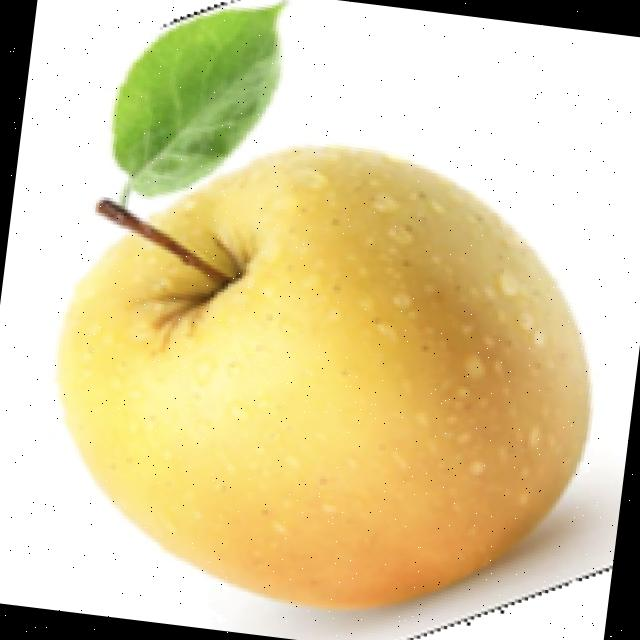apple: (50, 0, 620, 640)
